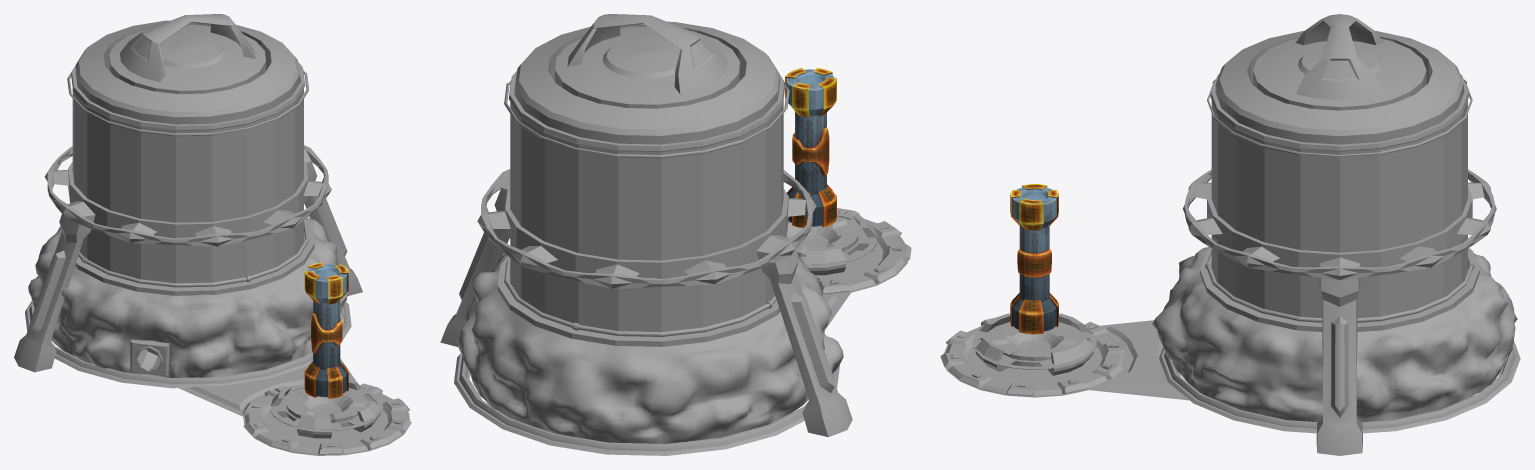
File: edificio ennui_tex.fbx
3 views of the same model, side by side, from view 1: azimuth 30°, elevation 25°; view 2: azimuth 150°, elevation 25°; view 3: azimuth 270°, elevation 25° (orthographic). The views are drawn at different scales.
Visible parts, largest first — view 1: Edificio Pieza1 Main_Part Tubo, Edificio Ennuis Piedra, Edificio Pieza1 Tapa Main_Part, Edificio Ennuis Amarre, object 13, Edificio Pieza1 Tubo_02 Tubos, object 2, object 4, object 5, Edificio Pieza1 Salida_bichos, object 3; view 2: Edificio Pieza1 Main_Part Tubo, Edificio Ennuis Piedra, Edificio Pieza1 Tapa Main_Part, Edificio Ennuis Amarre, Edificio Pieza1 Tubo_02 Tubos, object 2, object 13, object 4, object 5, object 3; view 3: Edificio Pieza1 Main_Part Tubo, Edificio Ennuis Piedra, Edificio Pieza1 Tapa Main_Part, Edificio Ennuis Amarre, object 13, Edificio Pieza1 Tubo_02 Tubos, object 2, object 5, object 4, object 3.
Part boxes in pixels (left/top/right/bottom): Edificio Pieza1 Main_Part Tubo: left=71, top=62, right=314, bottom=295; Edificio Ennuis Piedra: left=28, top=217, right=348, bottom=378; Edificio Pieza1 Tapa Main_Part: left=75, top=14, right=299, bottom=124; Edificio Ennuis Amarre: left=14, top=145, right=362, bottom=372; object 13: left=178, top=358, right=411, bottom=455; Edificio Pieza1 Tubo_02 Tubos: left=25, top=66, right=351, bottom=388; object 2: left=304, top=262, right=348, bottom=398; object 4: left=286, top=388, right=366, bottom=427; object 5: left=270, top=380, right=380, bottom=438; Edificio Pieza1 Salida_bichos: left=130, top=339, right=169, bottom=376; object 3: left=270, top=385, right=383, bottom=430; Edificio Pieza1 Main_Part Tubo: left=497, top=71, right=784, bottom=346; Edificio Ennuis Piedra: left=456, top=253, right=843, bottom=443; Edificio Pieza1 Tapa Main_Part: left=515, top=14, right=779, bottom=144; Edificio Ennuis Amarre: left=440, top=169, right=852, bottom=437; Edificio Pieza1 Tubo_02 Tubos: left=454, top=75, right=839, bottom=455; object 2: left=785, top=67, right=836, bottom=228; object 13: left=815, top=208, right=911, bottom=330; object 4: left=786, top=216, right=858, bottom=256; object 5: left=805, top=214, right=877, bottom=275; object 3: left=799, top=212, right=877, bottom=265; Edificio Pieza1 Main_Part Tubo: left=1200, top=74, right=1479, bottom=331; Edificio Ennuis Piedra: left=1152, top=247, right=1517, bottom=422; Edificio Pieza1 Tapa Main_Part: left=1215, top=14, right=1463, bottom=144; Edificio Ennuis Amarre: left=1183, top=169, right=1496, bottom=455; object 13: left=940, top=318, right=1189, bottom=400; Edificio Pieza1 Tubo_02 Tubos: left=1159, top=79, right=1520, bottom=433; object 2: left=1010, top=184, right=1058, bottom=334; object 5: left=975, top=313, right=1093, bottom=375; object 4: left=990, top=327, right=1078, bottom=366; object 3: left=972, top=321, right=1096, bottom=369.
Size of the model in its own units: 59.22 by 51.47 by 79.63.
